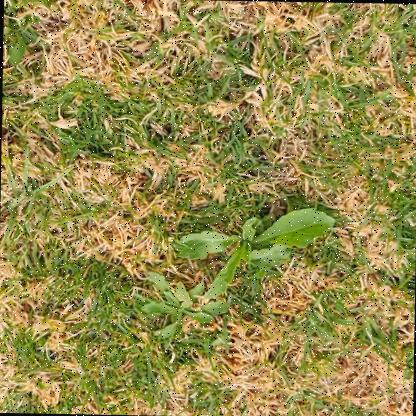Weeds: (173, 204, 335, 301), (139, 270, 228, 340)
